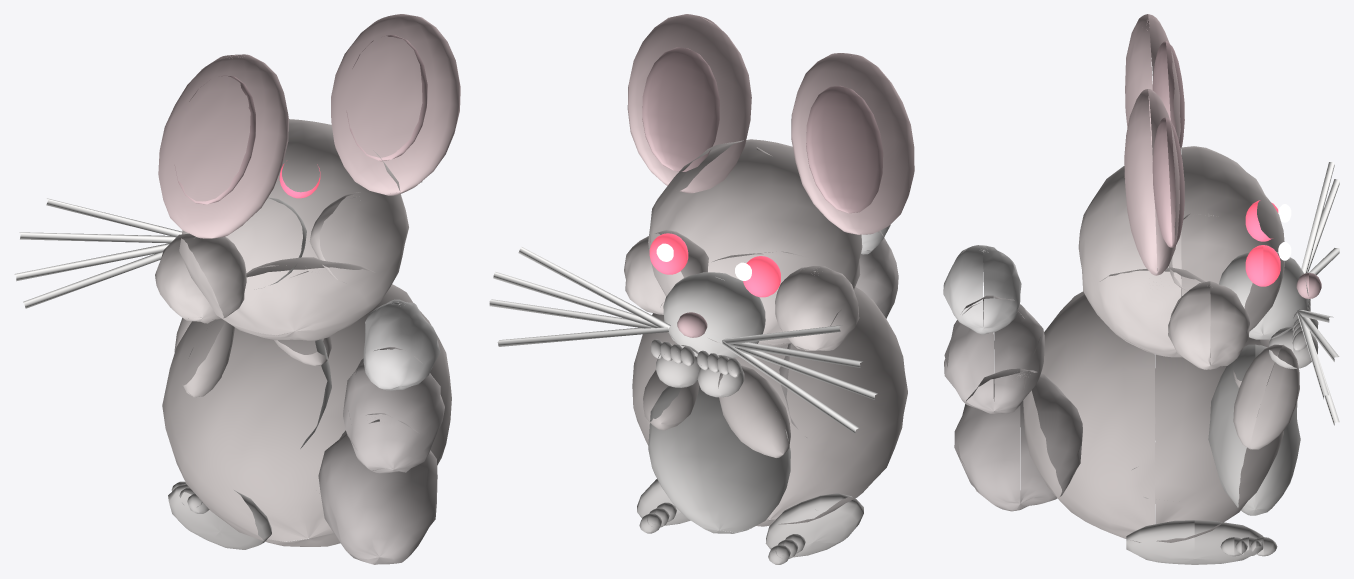
Rendered from pet_chinchilla_pink.glb.
3 renders of one model, left to right at view 1: azimuth 30°, elevation 25°; view 2: azimuth 150°, elevation 25°; view 3: azimuth 270°, elevation 25°, orthographic. The views are drawn at different scales.
Parts seen in each view (by area): view 1: chinchilla; view 2: chinchilla; view 3: chinchilla.
Boxes of the visible parts, x1,y1,x2,y2 form: chinchilla: (14, 14, 460, 564); chinchilla: (489, 14, 914, 564); chinchilla: (943, 14, 1339, 564).
Bounding box in the file's own units: 0.8416 × 1 × 0.7516.
